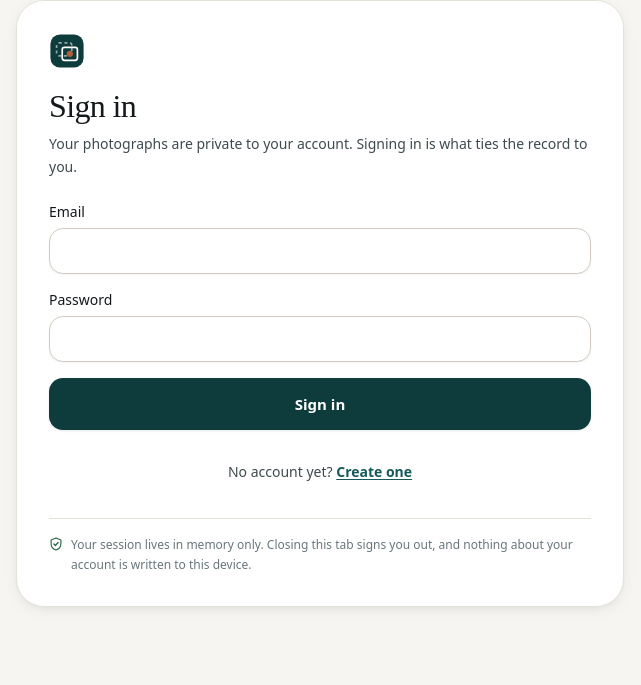
Test: SignIn — signing in › shows a failure without saying whether the account exists
Type "tenant@example.com" into the field with id "auth-email".
click(320, 251); type("tenant@example.com")  # box [49, 228, 591, 274]
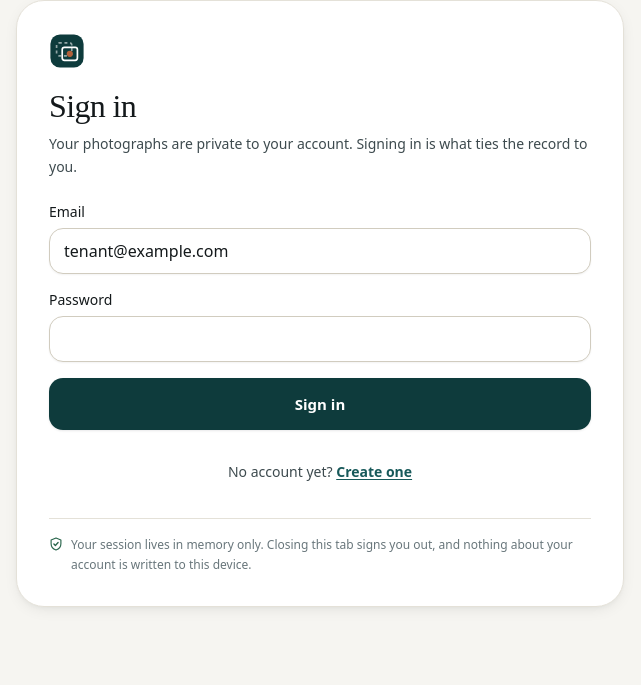
Type "wrong" into the password field with id "auth-password".
click(320, 339); type("wrong")  # box [49, 316, 591, 362]
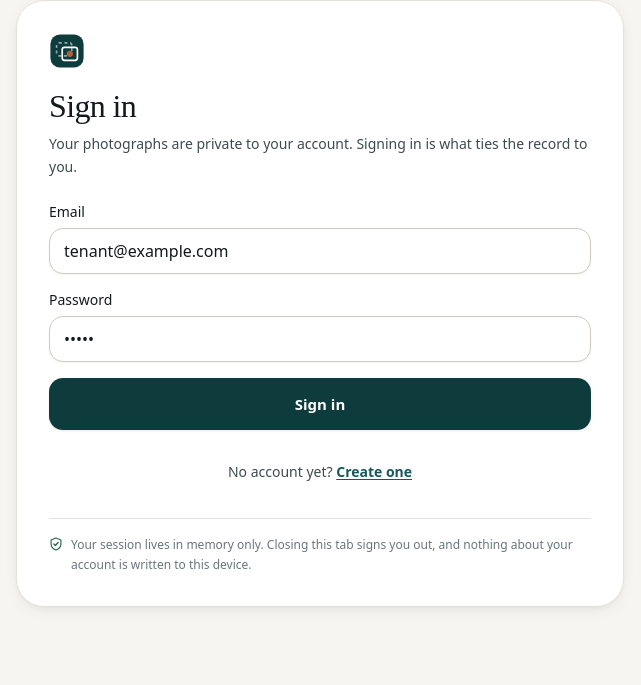
Click the button with test id "auth-submit".
click(320, 404)  # box [49, 378, 591, 430]
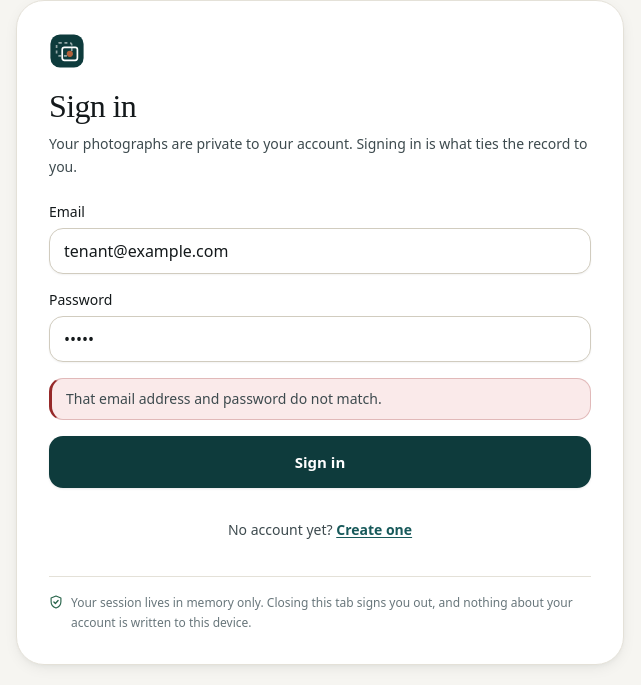
Expected: the message "That email address and password do not match." is shown, [49, 378, 591, 420]
Expected: the message shows "do not match", [66, 389, 382, 408]
